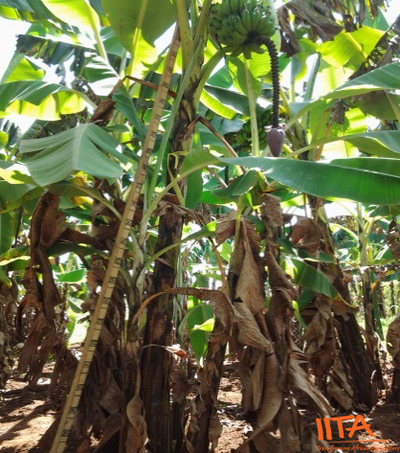bananaHand: (202, 1, 277, 60)
